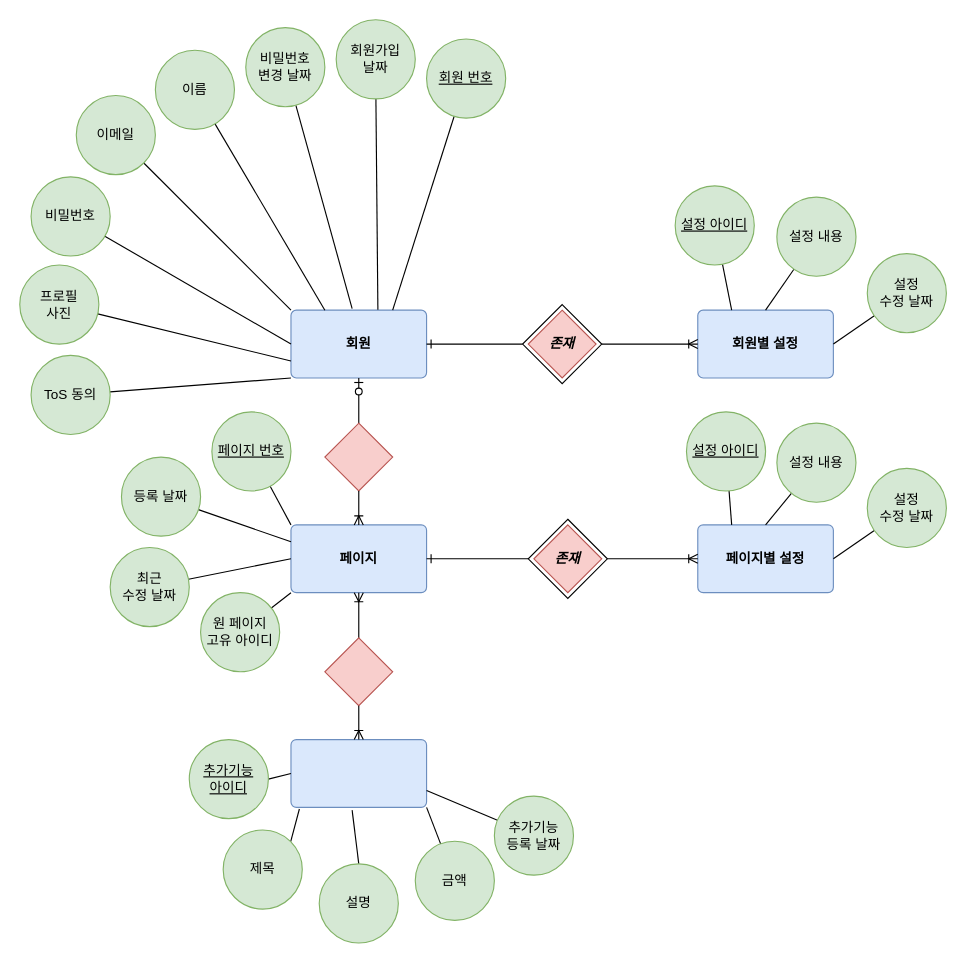
This 966x963 diagram has some shape labels left out. The centre of each missing label's shape, as x and y in pixels:
"보유" goes at (x=358, y=456).
"사용" goes at (x=358, y=671).
"추가기능" goes at (x=358, y=772).
